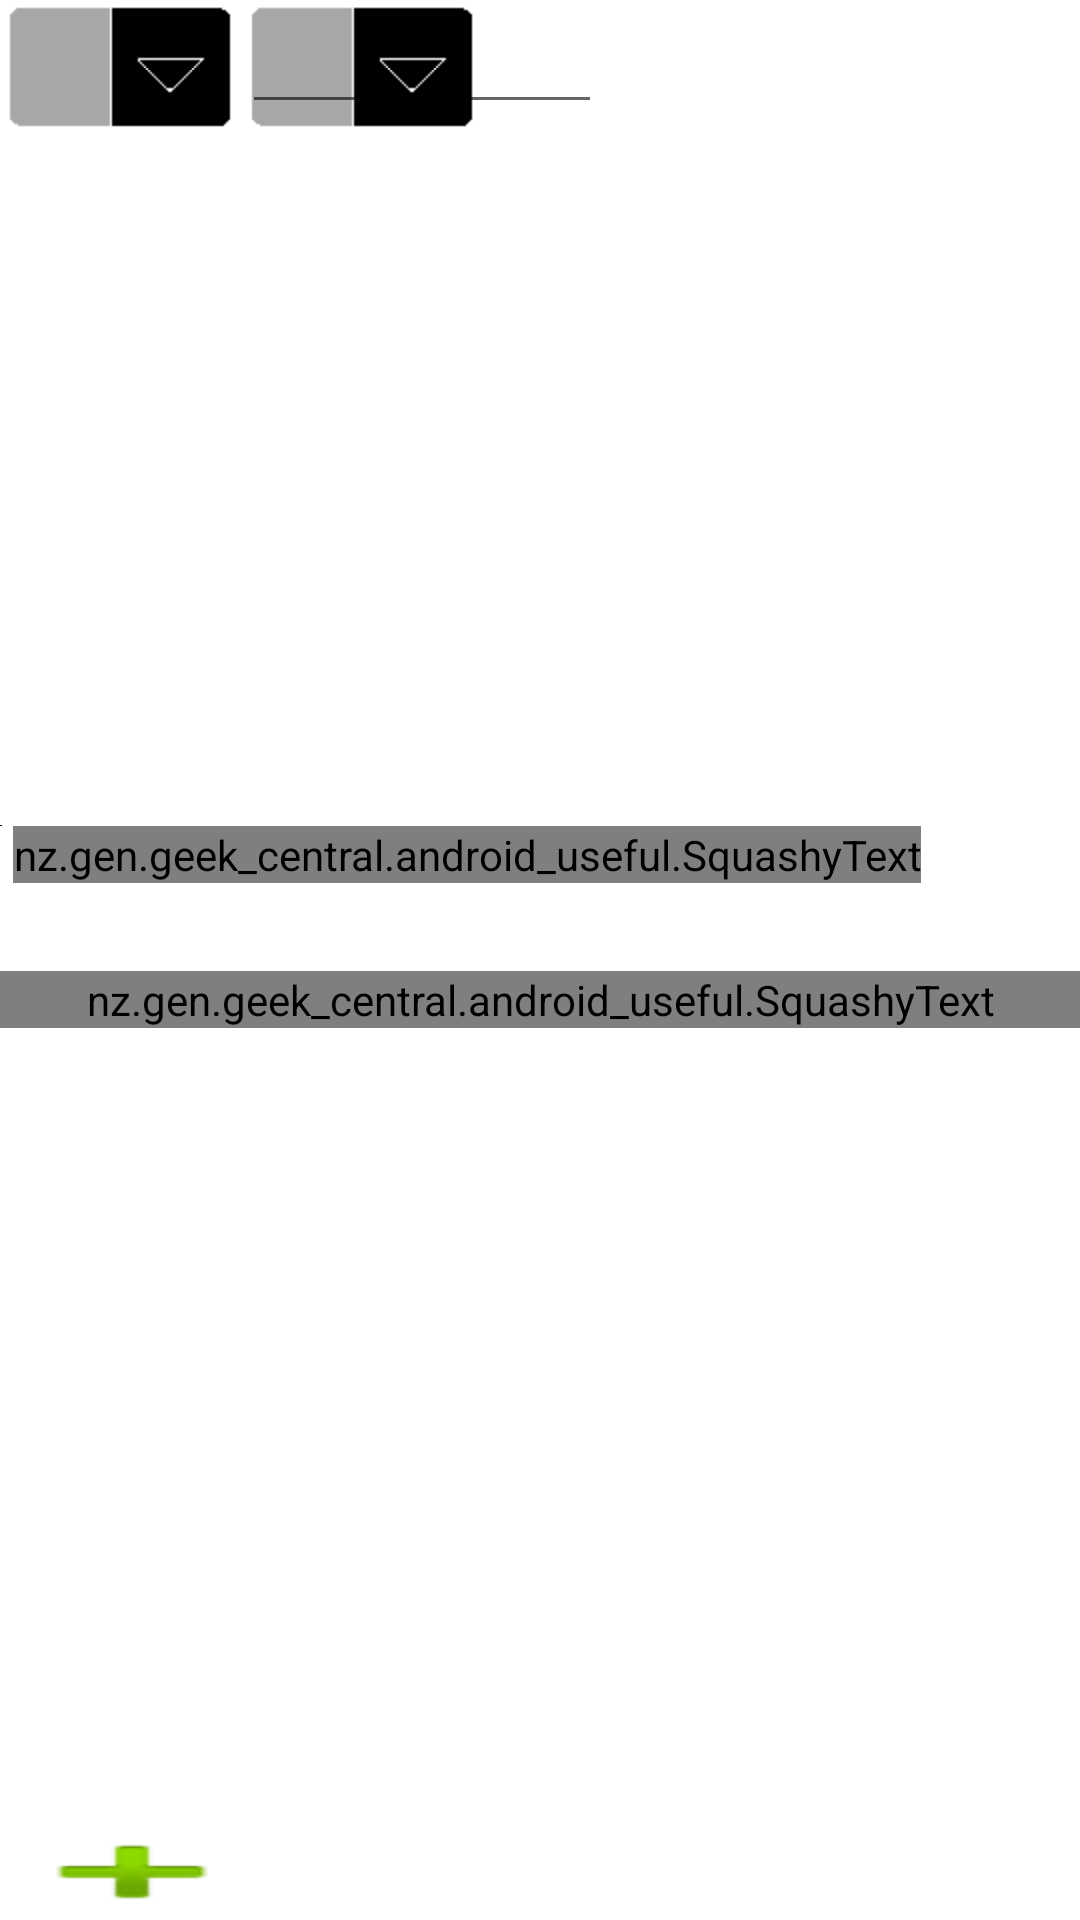

Screen size 1080 x 1920. Icon name, then its center in pixels as point (x, y):
add: point (132, 1872)
